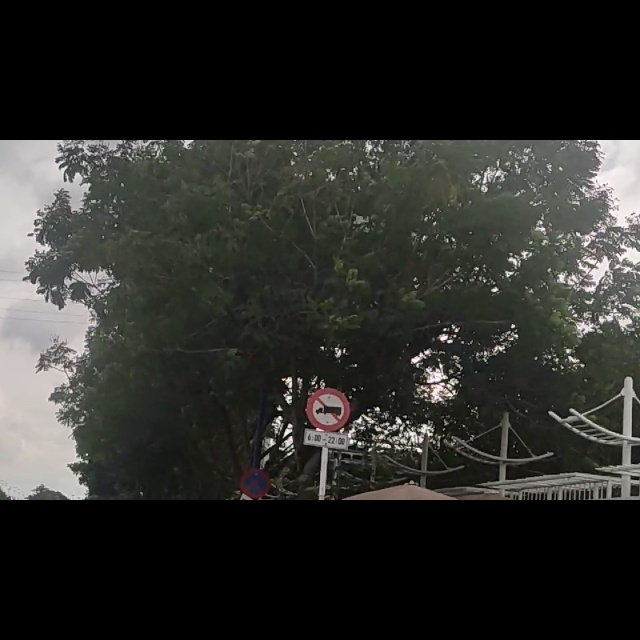bien_cam: (305, 441, 349, 546), (239, 583, 269, 632)
